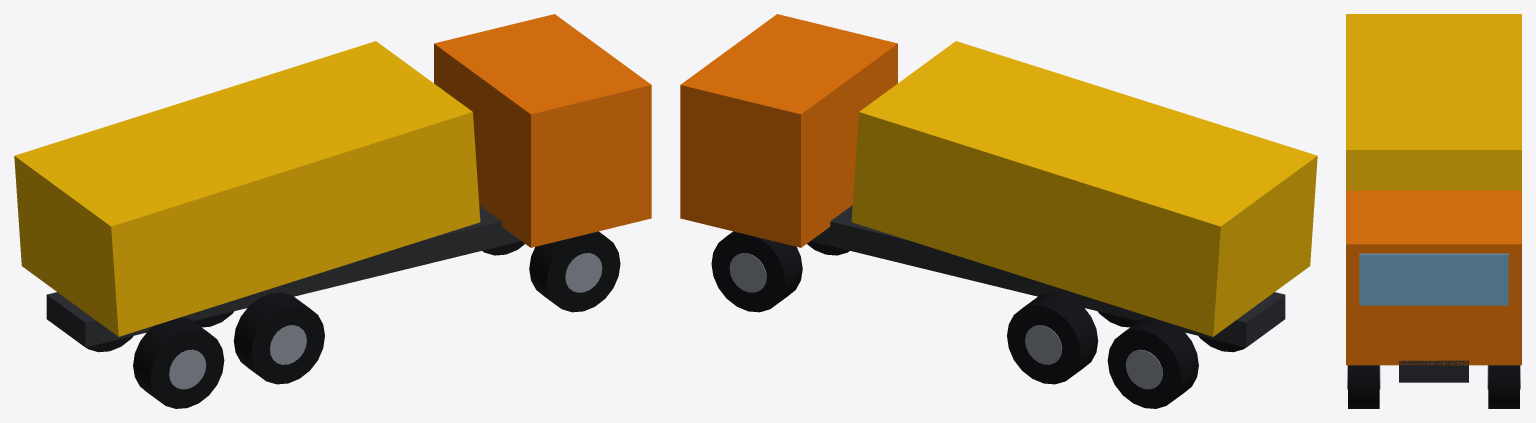
File: rock-tipper-truck.glb
3 views of the same model, side by side, from view 1: azimuth 30°, elevation 25°; view 2: azimuth 150°, elevation 25°; view 3: azimuth 270°, elevation 25° (orthographic). The views are drawn at different scales.
Size of the model in its own units: 8.08 by 3.24 by 2.5.
